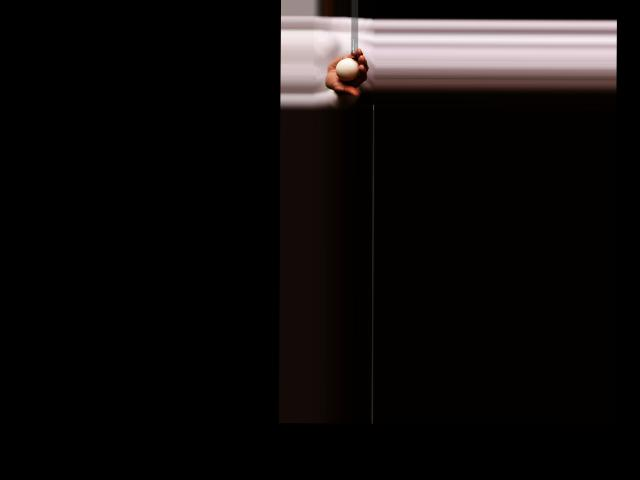egg: (336, 57, 359, 81)
